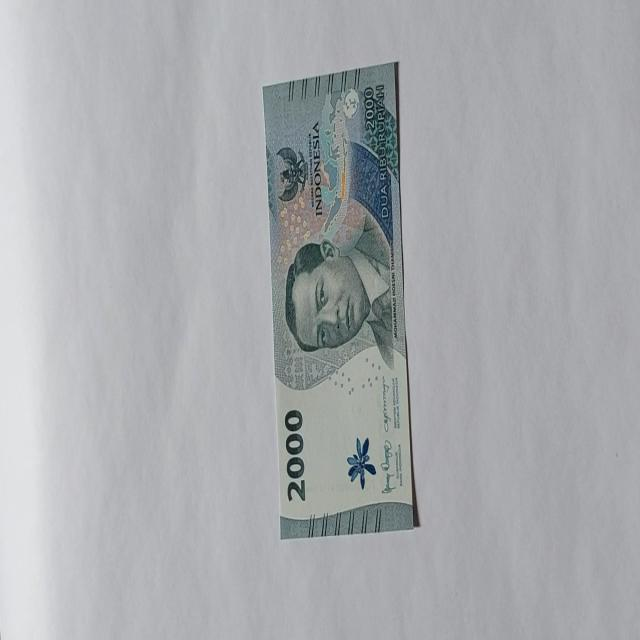dua ribu rupiah: (262, 62, 418, 538), (284, 210, 395, 370)
